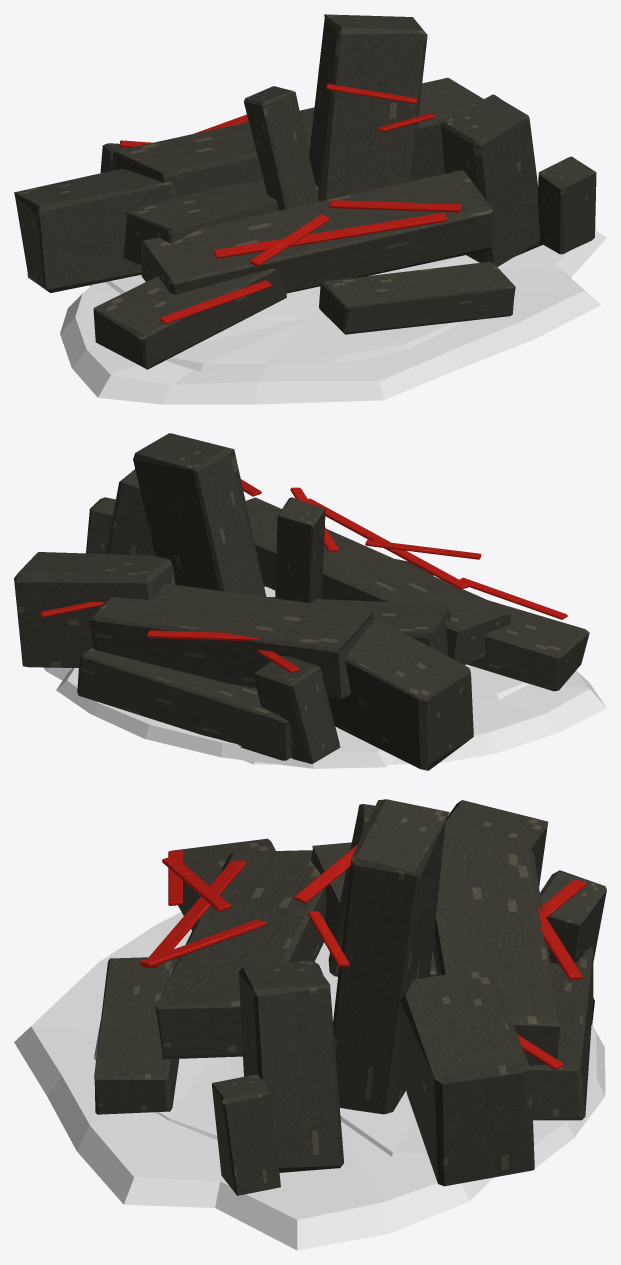
Rendered from SM_GIA_BloodAxeCairnSlabCluster_A01_BacksideRepair_LOD1.fbx.
3 renders of one model, top to bottom at view 1: azimuth 30°, elevation 25°; view 2: azimuth 150°, elevation 25°; view 3: azimuth 270°, elevation 25°, orthographic. The views are drawn at different scales.
Visible parts, largest first — view 1: LOD1_AshMudGroundingMound, LOD1_Stone_DominantBloodAxeFaceSlab, LOD1_Stone_RearUprightOathStone, LOD1_Stone_BackLeftButtressStone, LOD1_FrontMudAndStoneScuff, LOD1_Stone_RightStandingGuardStone, LOD1_Stone_FrontBrokenCapstone, LOD1_Stone_LeftStackedForeSlab, LOD1_Stone_BacksideCounterweightSlab, LOD1_Stone_NeedleShardRearLeft, LOD1_Stone_RearLowSupportSlab, LOD1_Stone_SmallRightStakeStone (+6 smaller); view 2: LOD1_Stone_BacksideCounterweightSlab, LOD1_Stone_RearUprightOathStone, LOD1_Stone_BackLeftButtressStone, LOD1_Stone_RearGroundLockWedge, LOD1_Stone_BackRightButtressStone, LOD1_Stone_DominantBloodAxeFaceSlab, LOD1_AshMudGroundingMound, LOD1_Stone_LeftStackedForeSlab, LOD1_BackMudAndStoneScuff, LOD1_Stone_RearBrokenMarkerShard, LOD1_Stone_NeedleShardRearLeft, LOD1_Stone_RearLowSupportSlab (+7 smaller); view 3: LOD1_AshMudGroundingMound, LOD1_Stone_RearUprightOathStone, LOD1_Stone_BackRightButtressStone, LOD1_Stone_DominantBloodAxeFaceSlab, LOD1_Stone_BacksideCounterweightSlab, LOD1_Stone_RightStandingGuardStone, LOD1_Stone_FrontBrokenCapstone, LOD1_Stone_RearGroundLockWedge, LOD1_Stone_SmallRightStakeStone, LOD1_BackMudAndStoneScuff, LOD1_FrontMudAndStoneScuff, LOD1_Stone_BackLeftButtressStone (+12 smaller).
Boxes of the visible parts, bbox=[...] form: LOD1_AshMudGroundingMound: bbox=[60, 230, 606, 404]; LOD1_Stone_DominantBloodAxeFaceSlab: bbox=[141, 170, 494, 294]; LOD1_Stone_RearUprightOathStone: bbox=[309, 14, 427, 201]; LOD1_Stone_BackLeftButtressStone: bbox=[14, 168, 175, 292]; LOD1_FrontMudAndStoneScuff: bbox=[165, 258, 467, 371]; LOD1_Stone_RightStandingGuardStone: bbox=[441, 94, 542, 266]; LOD1_Stone_FrontBrokenCapstone: bbox=[319, 261, 515, 334]; LOD1_Stone_LeftStackedForeSlab: bbox=[93, 269, 286, 369]; LOD1_Stone_BacksideCounterweightSlab: bbox=[113, 107, 314, 197]; LOD1_Stone_NeedleShardRearLeft: bbox=[244, 86, 318, 210]; LOD1_Stone_RearLowSupportSlab: bbox=[123, 179, 318, 265]; LOD1_Stone_SmallRightStakeStone: bbox=[537, 156, 596, 254]; LOD1_Stone_BacksideCounterweightSlab: bbox=[89, 583, 375, 698]; LOD1_Stone_RearUprightOathStone: bbox=[133, 433, 266, 596]; LOD1_Stone_BackLeftButtressStone: bbox=[328, 619, 473, 770]; LOD1_Stone_RearGroundLockWedge: bbox=[77, 647, 292, 760]; LOD1_Stone_BackRightButtressStone: bbox=[14, 552, 175, 667]; LOD1_Stone_DominantBloodAxeFaceSlab: bbox=[245, 497, 511, 664]; LOD1_AshMudGroundingMound: bbox=[44, 586, 606, 764]; LOD1_Stone_LeftStackedForeSlab: bbox=[467, 600, 589, 691]; LOD1_BackMudAndStoneScuff: bbox=[56, 668, 397, 768]; LOD1_Stone_RearBrokenMarkerShard: bbox=[253, 656, 340, 763]; LOD1_Stone_NeedleShardRearLeft: bbox=[275, 497, 325, 603]; LOD1_Stone_RearLowSupportSlab: bbox=[263, 596, 451, 656]; LOD1_AshMudGroundingMound: bbox=[14, 912, 493, 1250]; LOD1_Stone_RearUprightOathStone: bbox=[333, 799, 449, 1114]; LOD1_Stone_BackRightButtressStone: bbox=[400, 968, 534, 1186]; LOD1_Stone_DominantBloodAxeFaceSlab: bbox=[155, 850, 326, 1059]; LOD1_Stone_BacksideCounterweightSlab: bbox=[432, 846, 560, 1065]; LOD1_Stone_RightStandingGuardStone: bbox=[239, 960, 343, 1172]; LOD1_Stone_FrontBrokenCapstone: bbox=[94, 957, 179, 1114]; LOD1_Stone_RearGroundLockWedge: bbox=[529, 947, 594, 1120]; LOD1_Stone_SmallRightStakeStone: bbox=[212, 1074, 280, 1195]; LOD1_BackMudAndStoneScuff: bbox=[340, 1025, 605, 1168]; LOD1_FrontMudAndStoneScuff: bbox=[94, 938, 337, 1140]; LOD1_Stone_BackLeftButtressStone: bbox=[443, 800, 548, 886].
Size of the model in its own units: 384 by 162 by 282.
